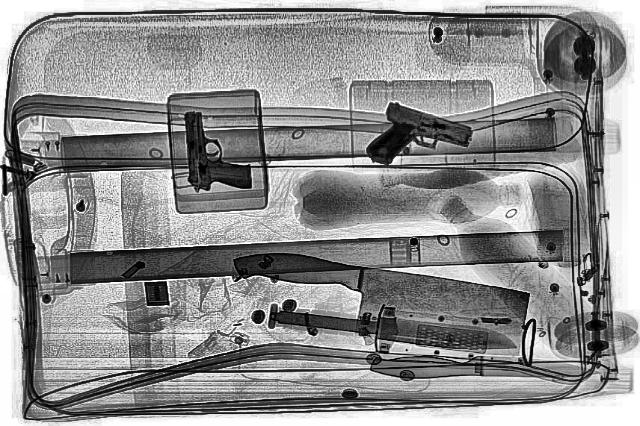Gun: (352, 102, 478, 178), (184, 111, 252, 192)
Knife: (210, 244, 544, 360), (272, 303, 524, 357), (367, 353, 598, 385)
